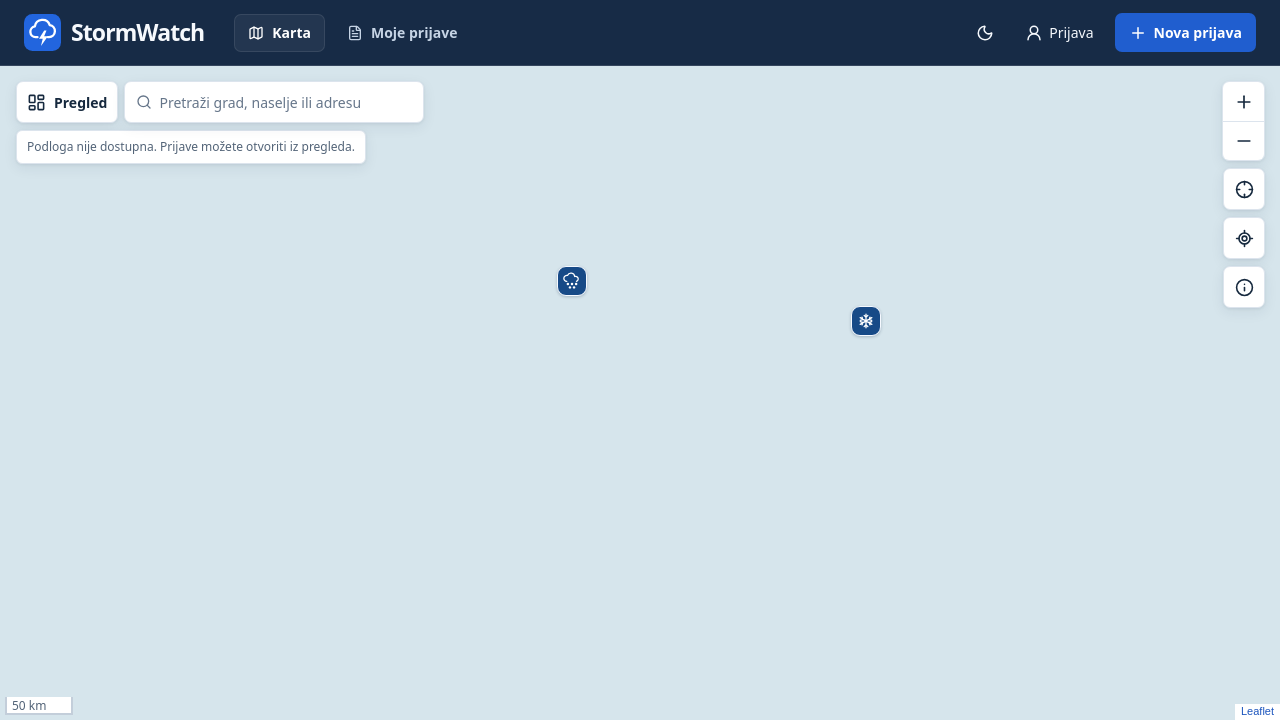
Test: navigacija › posjetitelju „Moje prijave” i „Nova prijava” otvaraju prijavu, ne stranicu ni obrazac
Click the button "Moje prijave" at (402, 32), box [333,14,472,52]
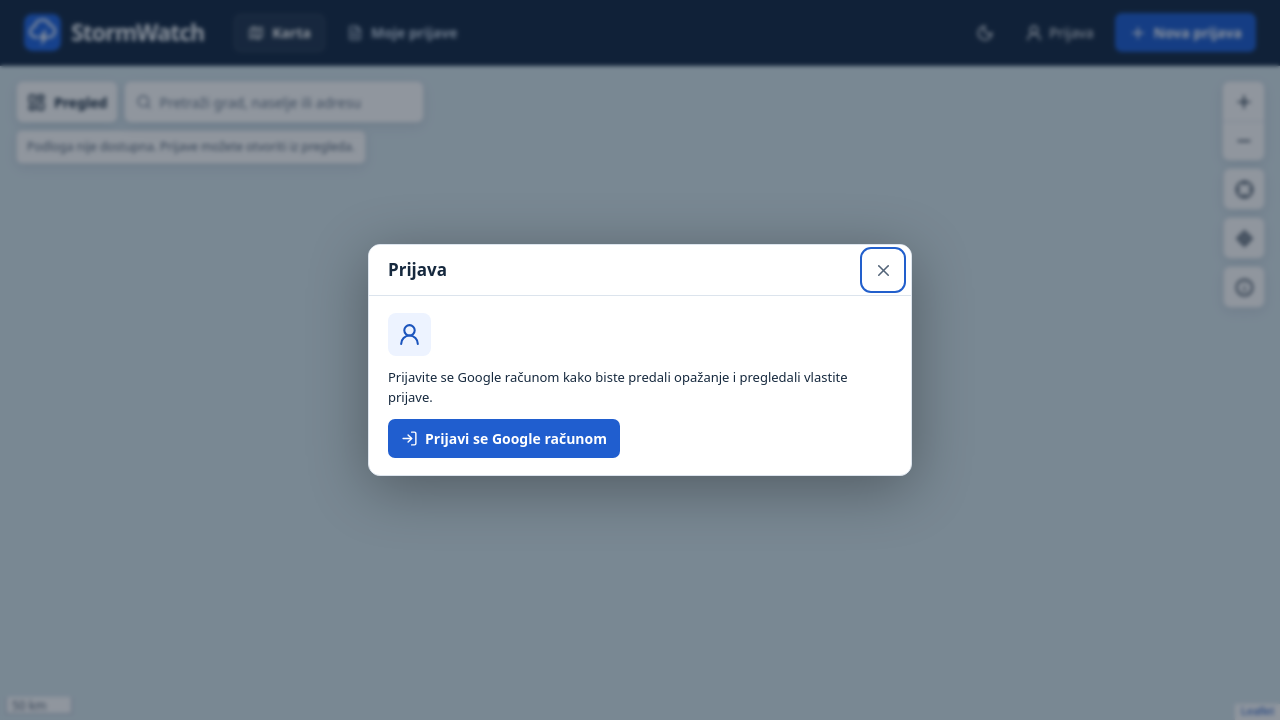
Expected: the dialog "Prijava" is shown, [368,244,912,476]
Click the button named "Zatvori" at (883, 270), box [865,252,901,288]
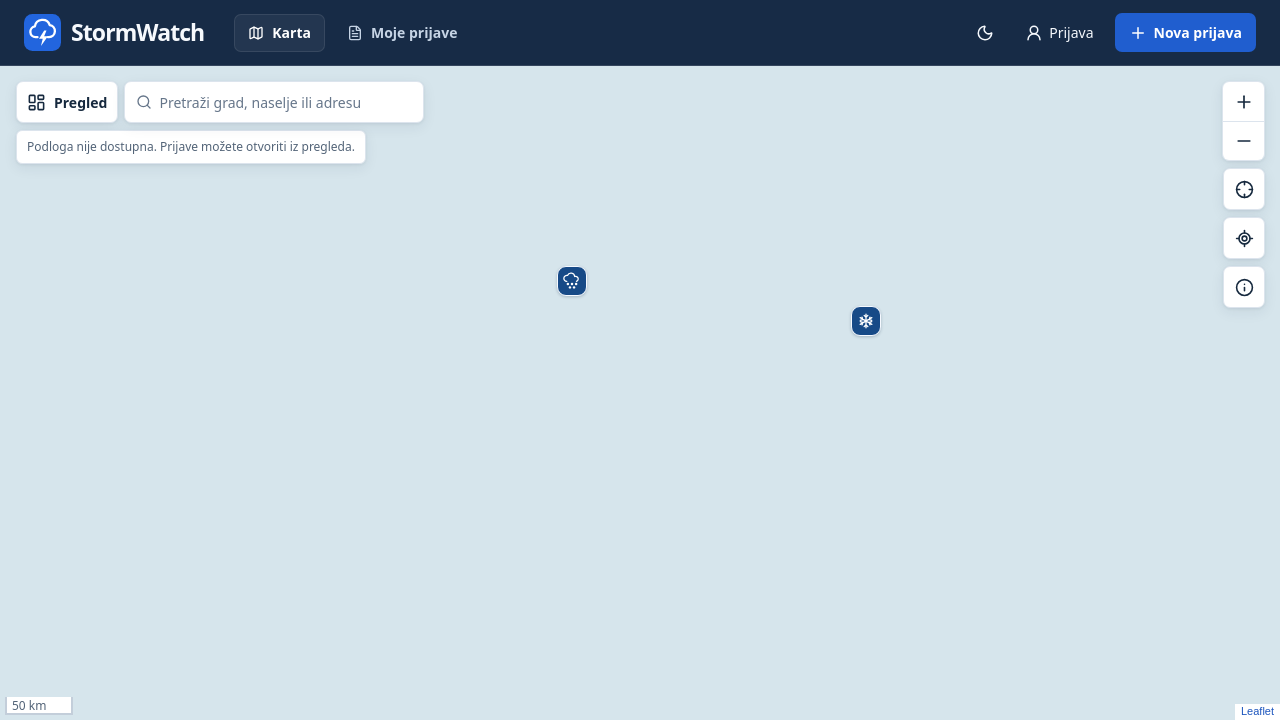
Expected: the dialog is gone
Click the button "Nova prijava" at (1185, 32), box [1114,13,1256,52]
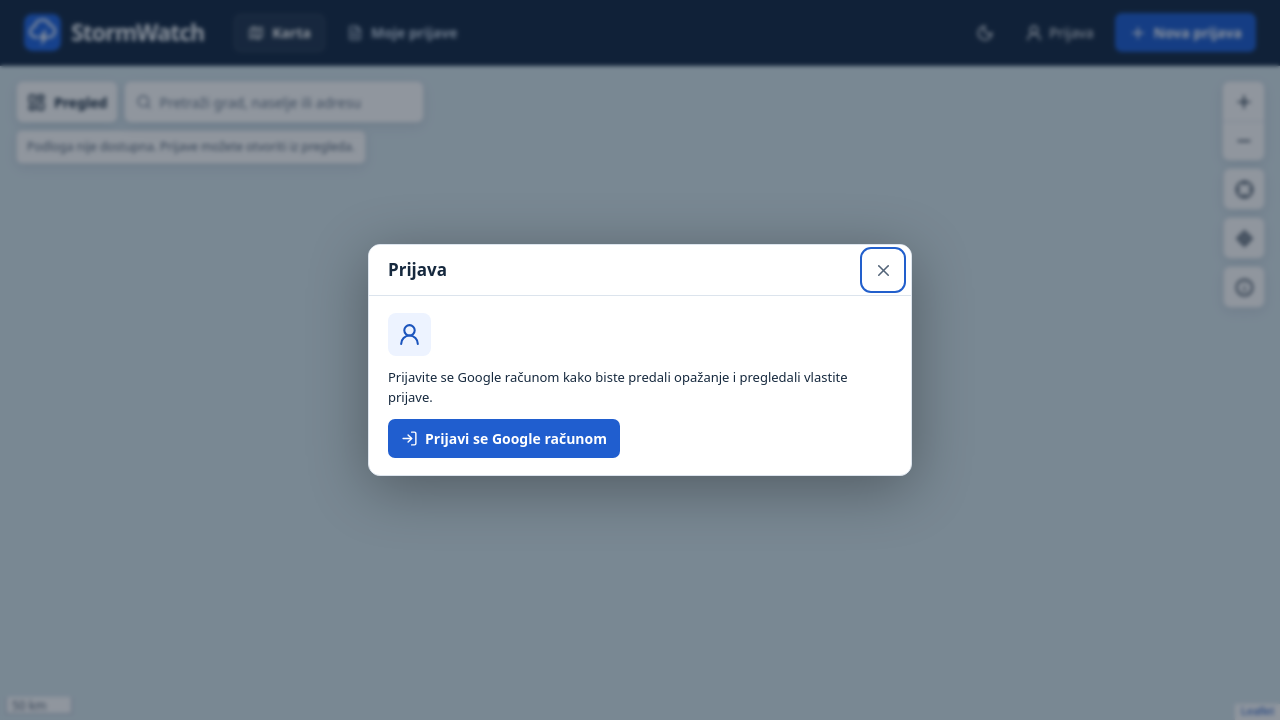
Expected: the dialog "Prijava" is shown, [368,244,912,476]
